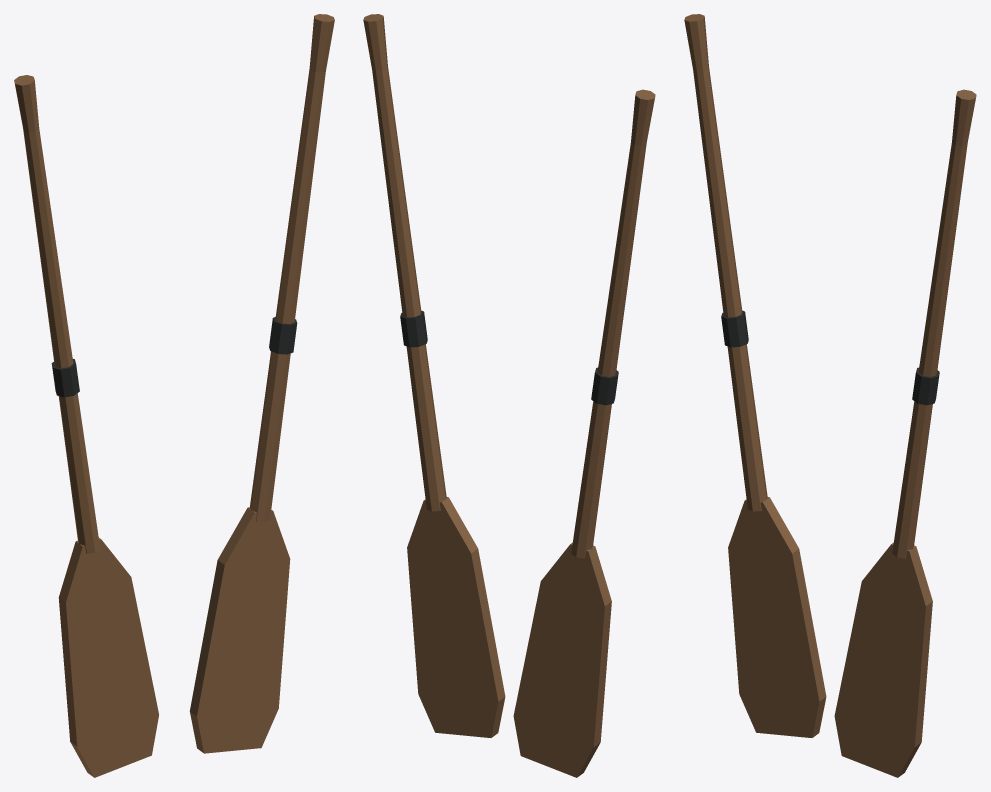
The model's file is boatSpeed-lv1.glb.
3 views of the same model, side by side, from view 1: azimuth 30°, elevation 25°; view 2: azimuth 150°, elevation 25°; view 3: azimuth 330°, elevation 25° (orthographic). The views are drawn at different scales.
Parts seen in each view (by area): view 1: broad-tapered-paddle-blade (×2), continuous-oar-shaft (×2), hand-grip (×2), oarlock-wear-collar (×2); view 2: broad-tapered-paddle-blade (×2), continuous-oar-shaft (×2), hand-grip (×2), oarlock-wear-collar (×2); view 3: broad-tapered-paddle-blade (×2), continuous-oar-shaft (×2), hand-grip (×2), oarlock-wear-collar (×2).
Part boxes in pixels (<box>): broad-tapered-paddle-blade (×2): <box>58,507,290,777</box>; continuous-oar-shaft (×2): <box>23,68,325,553</box>; hand-grip (×2): <box>14,14,334,132</box>; oarlock-wear-collar (×2): <box>51,317,297,397</box>; broad-tapered-paddle-blade (×2): <box>407,497,611,777</box>; continuous-oar-shaft (×2): <box>372,67,646,558</box>; hand-grip (×2): <box>363,14,655,145</box>; oarlock-wear-collar (×2): <box>400,310,618,405</box>; broad-tapered-paddle-blade (×2): <box>728,497,932,777</box>; continuous-oar-shaft (×2): <box>693,67,967,558</box>; hand-grip (×2): <box>684,14,976,145</box>; oarlock-wear-collar (×2): <box>721,310,939,405</box>.
Size of the model in its own units: 0.9007 by 1.99 by 0.1211.
